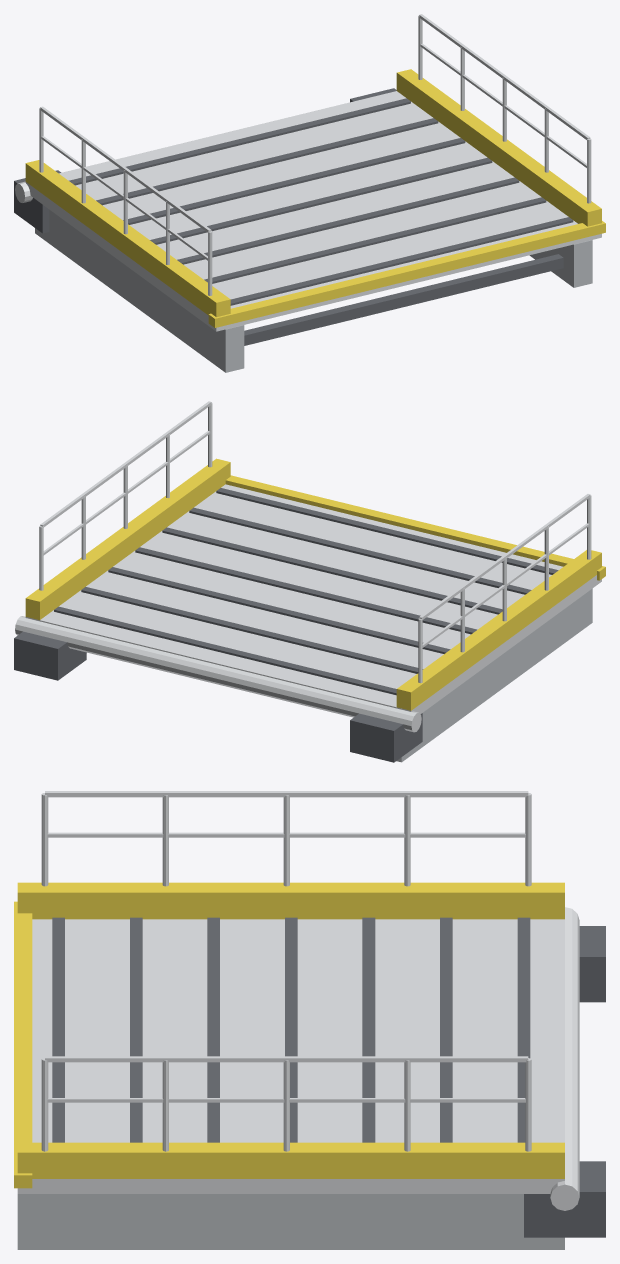
File: ferry-terminal-and-harbour-crossing-ferry-terminal-and-edb91ab1__35631.glb
The picture shows the model from 3 angles, top to bottom: view 1: azimuth 30°, elevation 25°; view 2: azimuth 150°, elevation 25°; view 3: azimuth 270°, elevation 25°; orthographic projection. The views are drawn at different scales.
Visible parts, largest first — view 1: bridge-deck/steel (×5), bridge-deck/charcoal (×8), bridge-deck/yellow (×3), bridge-deck/paint (×2), ferry-terminal-and-harbour-crossing-linkspan-bridge-section_; view 2: bridge-deck/steel (×5), bridge-deck/yellow (×3), bridge-deck/charcoal (×7), ferry-terminal-and-harbour-crossing-linkspan-bridge-section_ (×2), bridge-deck/paint; view 3: bridge-deck/steel (×15), bridge-deck/yellow (×3), bridge-deck/paint, bridge-deck/charcoal (×7), ferry-terminal-and-harbour-crossing-linkspan-bridge-section_ (×2).
Boxes of the visible parts, left/top/right/bottom form: bridge-deck/steel (×5): left=25, top=14, right=601, bottom=331; bridge-deck/charcoal (×8): left=69, top=98, right=573, bottom=345; bridge-deck/yellow (×3): left=25, top=69, right=605, bottom=327; bridge-deck/paint (×2): left=35, top=209, right=592, bottom=372; ferry-terminal-and-harbour-crossing-linkspan-bridge-section_: left=14, top=88, right=396, bottom=233; bridge-deck/steel (×5): left=25, top=401, right=601, bottom=713; bridge-deck/yellow (×3): left=25, top=458, right=605, bottom=710; bridge-deck/charcoal (×7): left=54, top=488, right=558, bottom=695; ferry-terminal-and-harbour-crossing-linkspan-bridge-section_ (×2): left=14, top=616, right=422, bottom=762; bridge-deck/paint: left=396, top=588, right=592, bottom=762; bridge-deck/steel (×15): left=17, top=791, right=564, bottom=1193; bridge-deck/yellow (×3): left=14, top=882, right=564, bottom=1188; bridge-deck/paint: left=17, top=1194, right=564, bottom=1249; bridge-deck/charcoal (×7): left=52, top=917, right=530, bottom=1142; ferry-terminal-and-harbour-crossing-linkspan-bridge-section_ (×2): left=524, top=907, right=605, bottom=1237.
Size of the model in its own units: 7.2 by 2.38 by 6.49.
